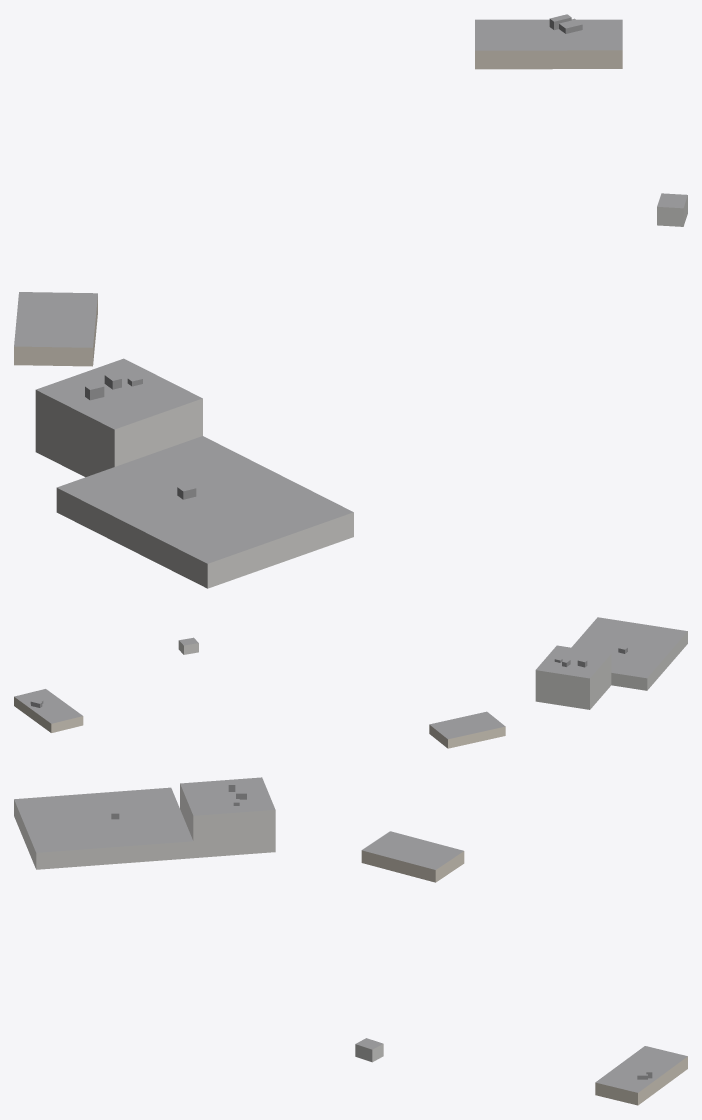
Rendered from building_-5_-3.glb.
3 renders of one model, top to bottom at view 1: azimuth 30°, elevation 25°; view 2: azimuth 150°, elevation 25°; view 3: azimuth 270°, elevation 25°, orthographic. The views are drawn at different scales.
Parts seen in each view (by area): view 1: roof, concrete_light, concrete_warm; view 2: roof, concrete_light, concrete_warm; view 3: roof, concrete_light, concrete_warm.
Boxes of the visible parts, <box> form: roof: <box>14,14,687,563</box>; concrete_light: <box>35,195,687,588</box>; concrete_warm: <box>14,50,622,366</box>; roof: <box>14,617,687,739</box>; concrete_light: <box>178,631,687,709</box>; concrete_warm: <box>14,697,505,748</box>; roof: <box>14,777,687,1092</box>; concrete_light: <box>14,784,383,1062</box>; concrete_warm: <box>361,850,687,1105</box>.
Bounding box in the file's own units: 153 × 11.71 × 145.
